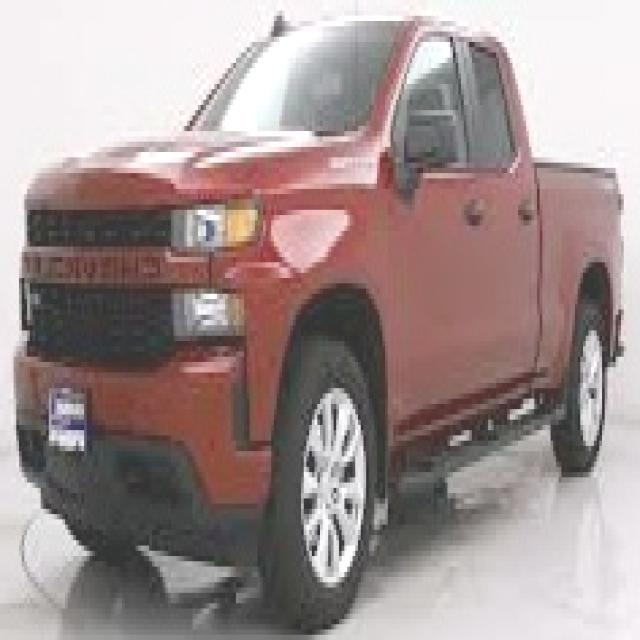maroon: (16, 7, 619, 547)
